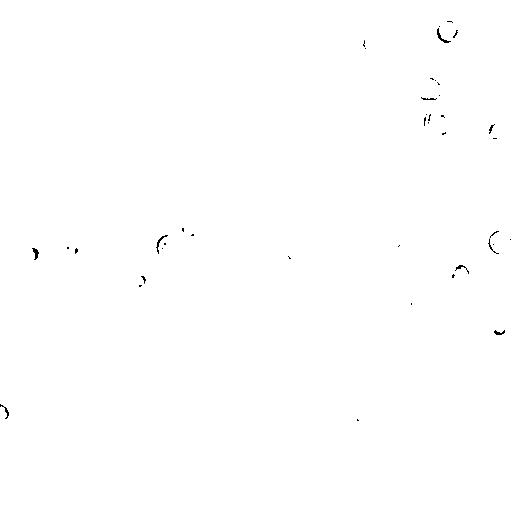micro-algae: (336, 21, 477, 145), (389, 25, 475, 109), (80, 121, 159, 202), (221, 100, 293, 177), (115, 66, 182, 133), (85, 262, 127, 303), (263, 11, 302, 51), (391, 283, 426, 317), (59, 290, 94, 323), (234, 125, 267, 158), (421, 105, 453, 137), (135, 169, 163, 201), (39, 88, 69, 117), (206, 379, 233, 409), (177, 417, 207, 444), (144, 252, 171, 280), (157, 233, 183, 262), (447, 262, 473, 291), (415, 75, 443, 101), (486, 115, 512, 143), (313, 297, 339, 325), (486, 228, 511, 257), (436, 17, 461, 45), (52, 486, 80, 511), (1, 0, 33, 20), (359, 31, 385, 55), (417, 425, 441, 449), (16, 243, 42, 265), (373, 282, 397, 305), (273, 0, 301, 19), (175, 144, 196, 169), (177, 217, 199, 239), (380, 231, 403, 252), (214, 273, 234, 295), (284, 226, 305, 244), (283, 247, 305, 263), (64, 241, 81, 261), (346, 406, 364, 424), (129, 272, 147, 289), (489, 318, 507, 335), (206, 13, 221, 32), (345, 310, 359, 328), (503, 31, 512, 57), (1, 402, 11, 423), (40, 0, 59, 9)
